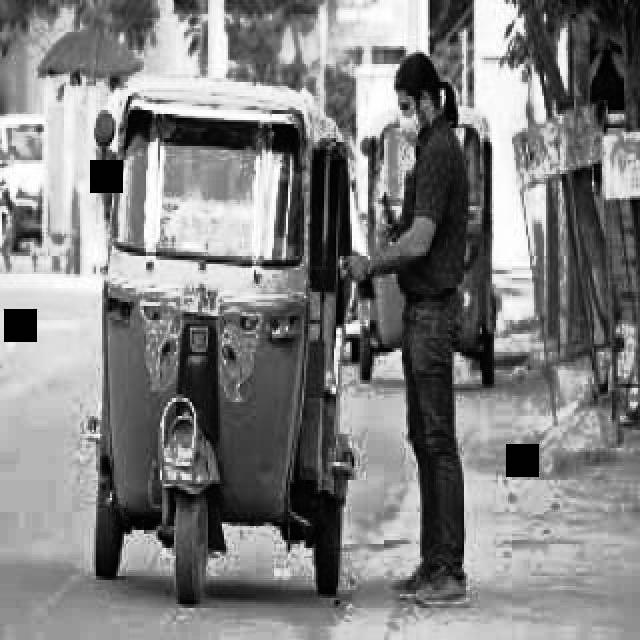Auto-Rickshaw: (72, 76, 374, 592)
